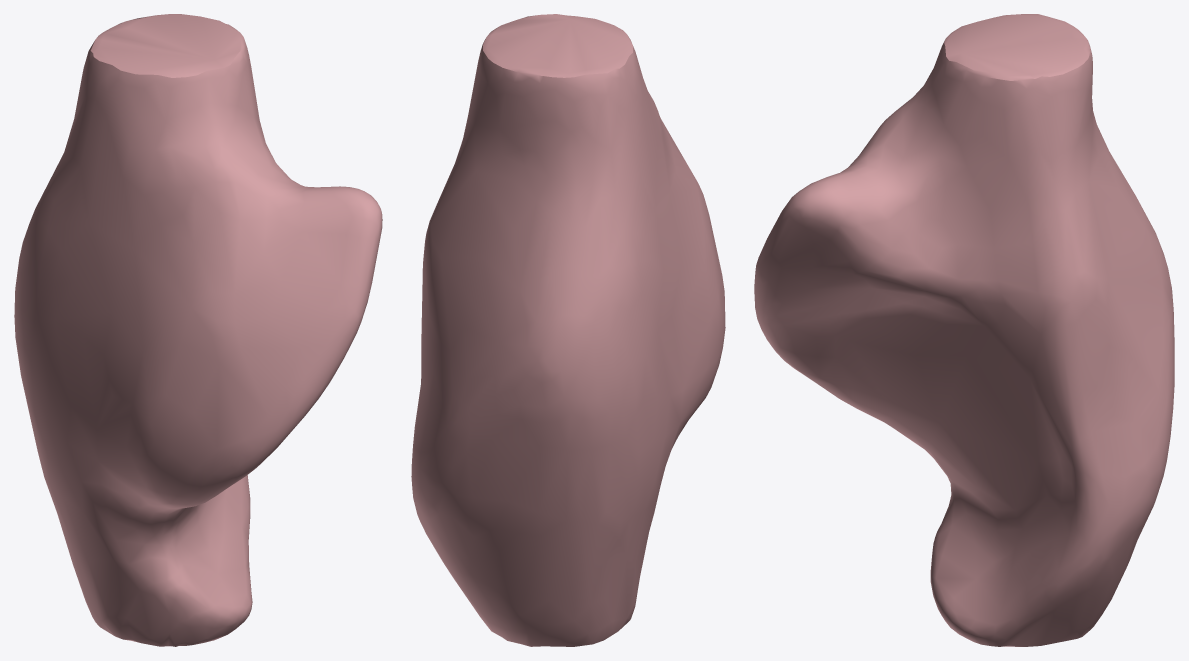
File: fma11359_fj2424.glb
3 views of the same model, side by side, from view 1: azimuth 30°, elevation 25°; view 2: azimuth 150°, elevation 25°; view 3: azimuth 270°, elevation 25° (orthographic).
Parts seen in each view (by area): view 1: FMA11359_FJ2424; view 2: FMA11359_FJ2424; view 3: FMA11359_FJ2424.
Part boxes in pixels (x1,y1,x2,y2): FMA11359_FJ2424: (14,14,382,646); FMA11359_FJ2424: (411,14,725,646); FMA11359_FJ2424: (754,14,1174,646).
Size of the model in its own units: 0.0374 by 0.0923 by 0.0611.
